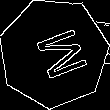M_W: (23, 23, 85, 84)
